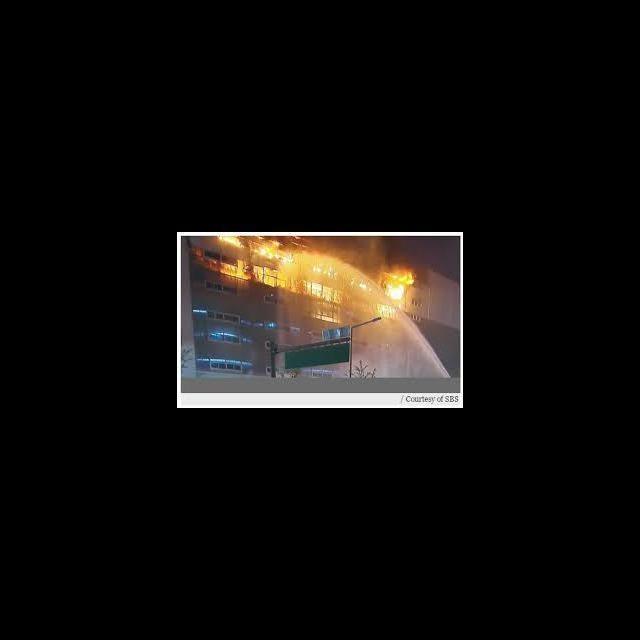Fire: (217, 236, 346, 302), (382, 268, 417, 300)
